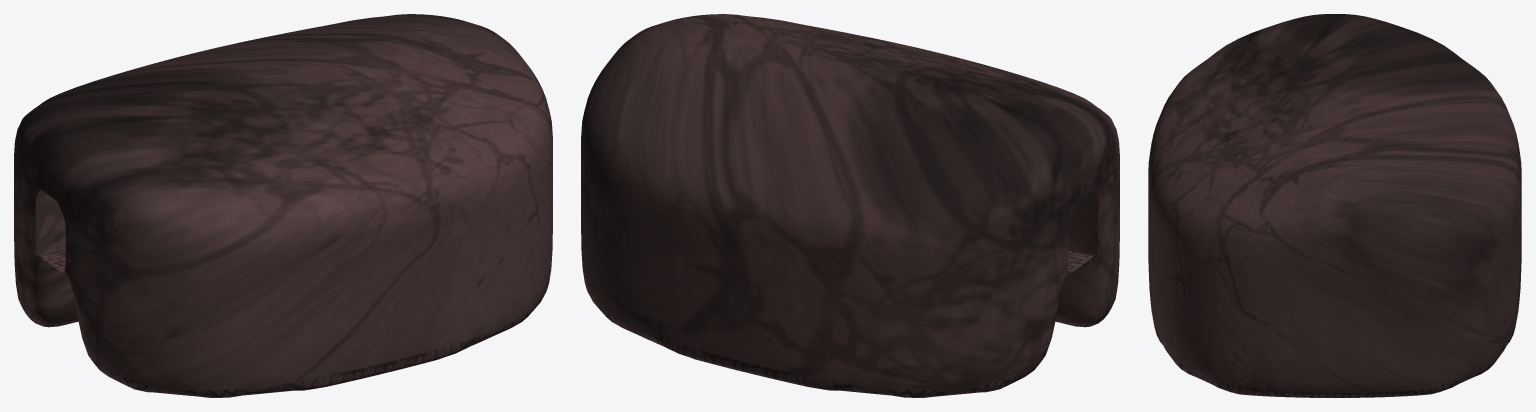
Rendered from MOD_L1_Room2.fbx.
The picture shows the model from 3 angles, left to right: view 1: azimuth 30°, elevation 25°; view 2: azimuth 150°, elevation 25°; view 3: azimuth 270°, elevation 25°; orthographic projection. The views are drawn at different scales.
Visible parts, largest first — view 1: Cube; view 2: Cube; view 3: Cube.
Part boxes in pixels (x1,y1,x2,y2): Cube: [14, 14, 552, 397]; Cube: [581, 14, 1119, 397]; Cube: [1148, 14, 1521, 397].
Bounding box in the file's own units: 355 × 164 × 271.
